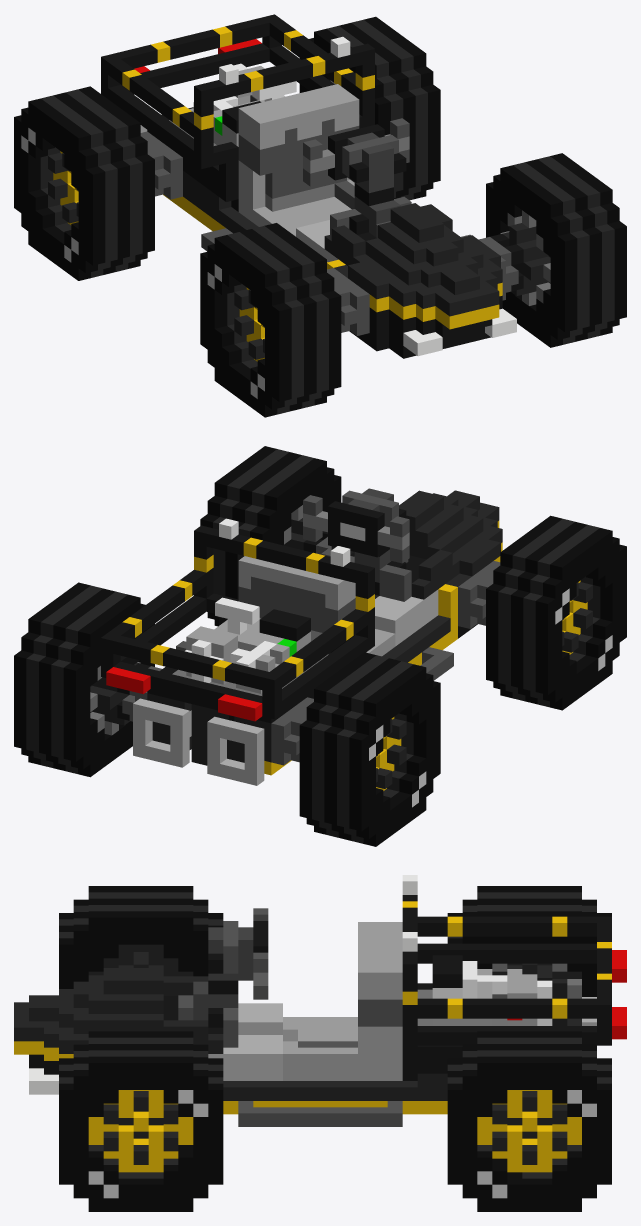
The model's file is Black-Gold_Kart.obj.
3 views of the same model, one above another, from view 1: azimuth 30°, elevation 25°; view 2: azimuth 150°, elevation 25°; view 3: azimuth 270°, elevation 25° (orthographic). The views are drawn at different scales.
Size of the model in its own units: 2.8 by 1.6 by 4.1.
1 material, 1 textured.
